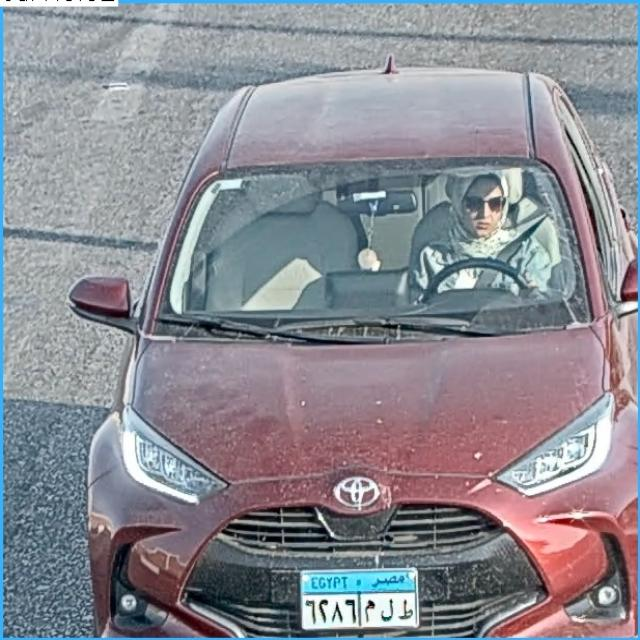windshield: (166, 171, 597, 327)
